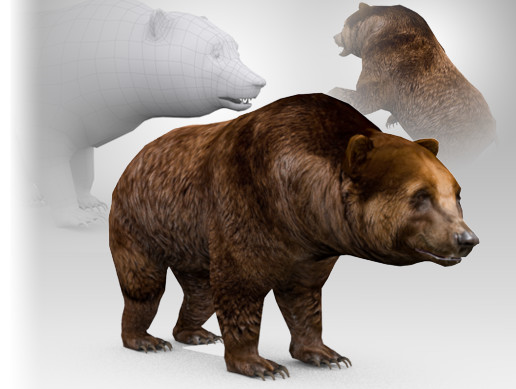bear: (346, 131, 483, 273)
